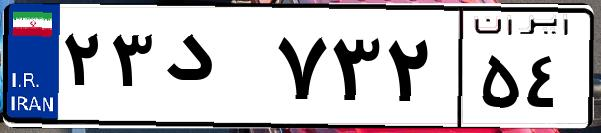2: (385, 28, 445, 110), (57, 26, 110, 100)
3: (330, 28, 385, 110), (110, 28, 158, 98)
4: (525, 38, 570, 115)
5: (475, 38, 525, 113)
7: (270, 28, 330, 110)
د: (158, 20, 270, 120)
